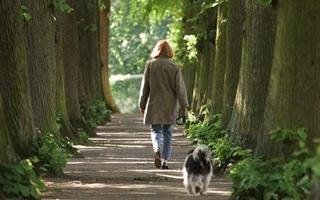person: (139, 40, 188, 170)
